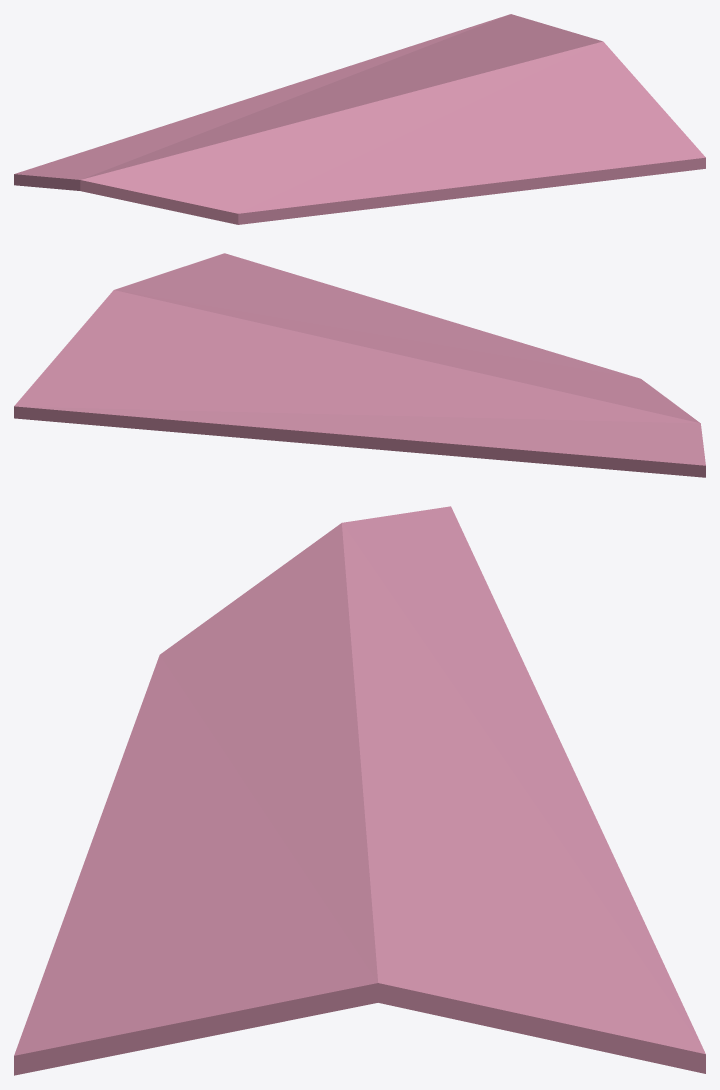
Rendered from SH_Bird_Wing_Pink.fbx.
3 views of the same model, one above another, from view 1: azimuth 30°, elevation 25°; view 2: azimuth 150°, elevation 25°; view 3: azimuth 270°, elevation 25° (orthographic). The views are drawn at different scales.
Parts seen in each view (by area): view 1: SH_Bird_Wing_Pink; view 2: SH_Bird_Wing_Pink; view 3: SH_Bird_Wing_Pink.
Part boxes in pixels (x1=…): SH_Bird_Wing_Pink: x1=14, y1=14, x2=705, y2=224; SH_Bird_Wing_Pink: x1=14, y1=253, x2=705, y2=477; SH_Bird_Wing_Pink: x1=14, y1=506, x2=705, y2=1075.
Bounding box in the file's own units: 0.16 × 0.014 × 0.095.
